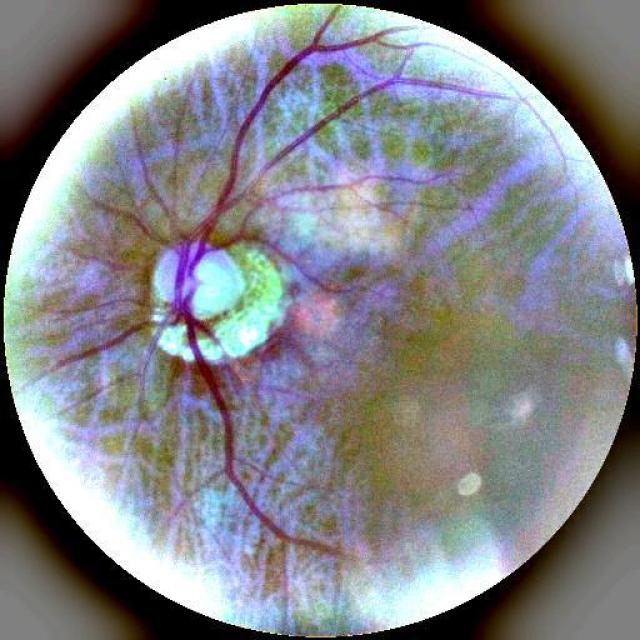Optic Disk: (152, 241, 299, 364)
